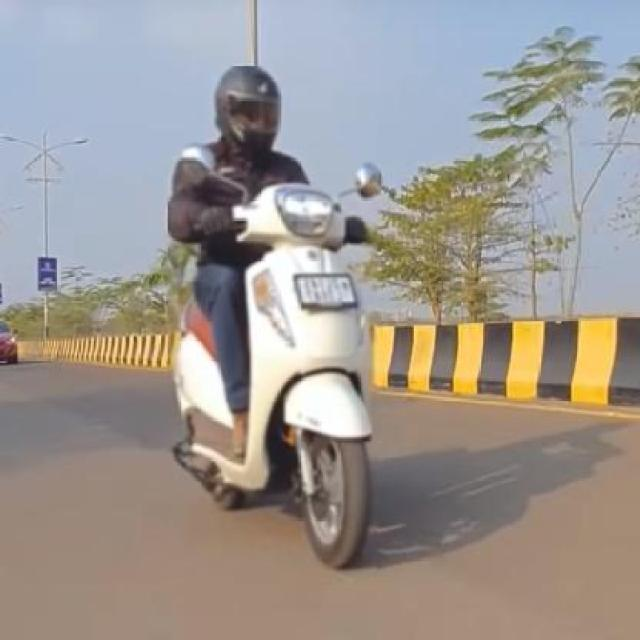helmet: (175, 59, 320, 163)
motorcycle: (105, 49, 411, 571)
